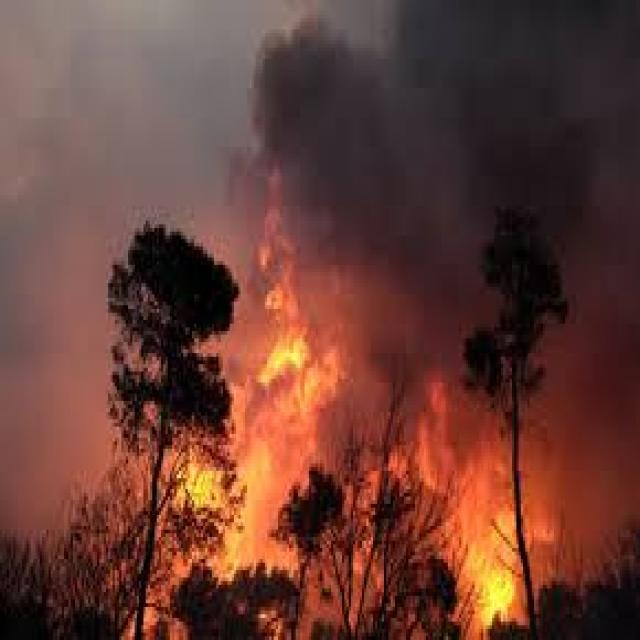Fire: (182, 166, 392, 640), (403, 396, 557, 640)
Smoke: (244, 5, 640, 358)
